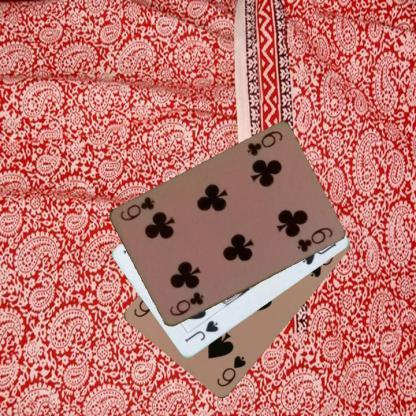6c: (244, 128, 284, 158), (166, 289, 206, 318)
6s: (213, 353, 247, 389)
Js: (182, 317, 219, 344)
